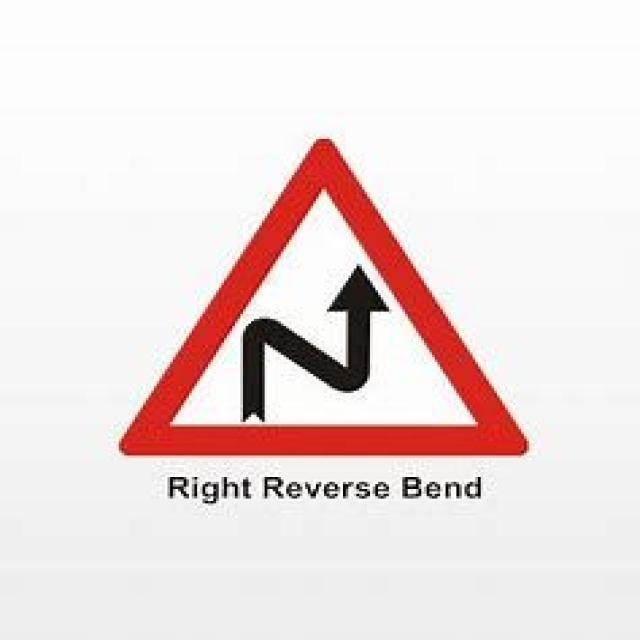RIGHT_REVERSE_BEND: (110, 126, 541, 460)
